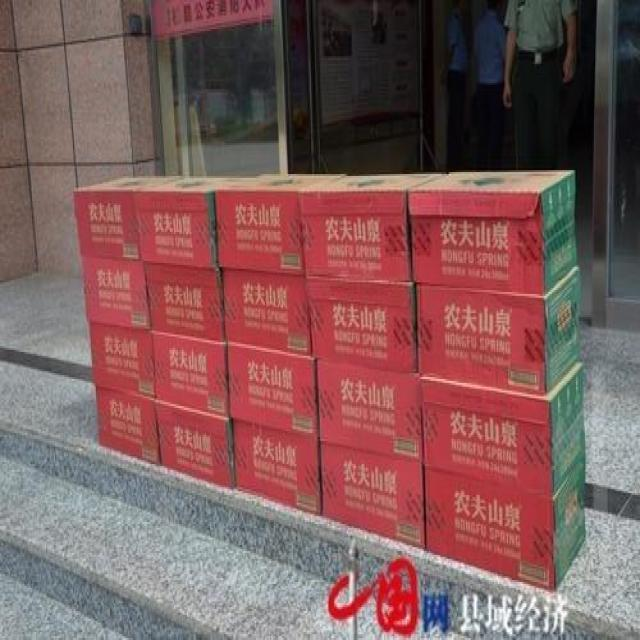box: (418, 363, 582, 497), (426, 457, 589, 587), (408, 171, 576, 297), (418, 267, 581, 395), (303, 173, 441, 280), (321, 441, 428, 550), (316, 358, 425, 462), (306, 277, 418, 371), (223, 335, 320, 440), (230, 411, 320, 521), (218, 265, 314, 359), (214, 179, 306, 269), (133, 174, 219, 270), (152, 394, 236, 490), (144, 257, 228, 343), (150, 329, 230, 415), (74, 174, 150, 259), (82, 253, 154, 330), (95, 386, 161, 466), (87, 319, 157, 392)
